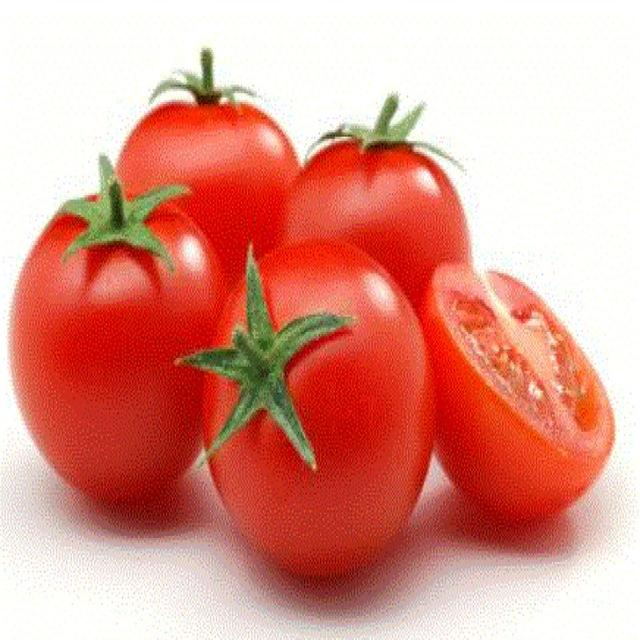Healthy Fruit: (81, 112, 264, 277)
